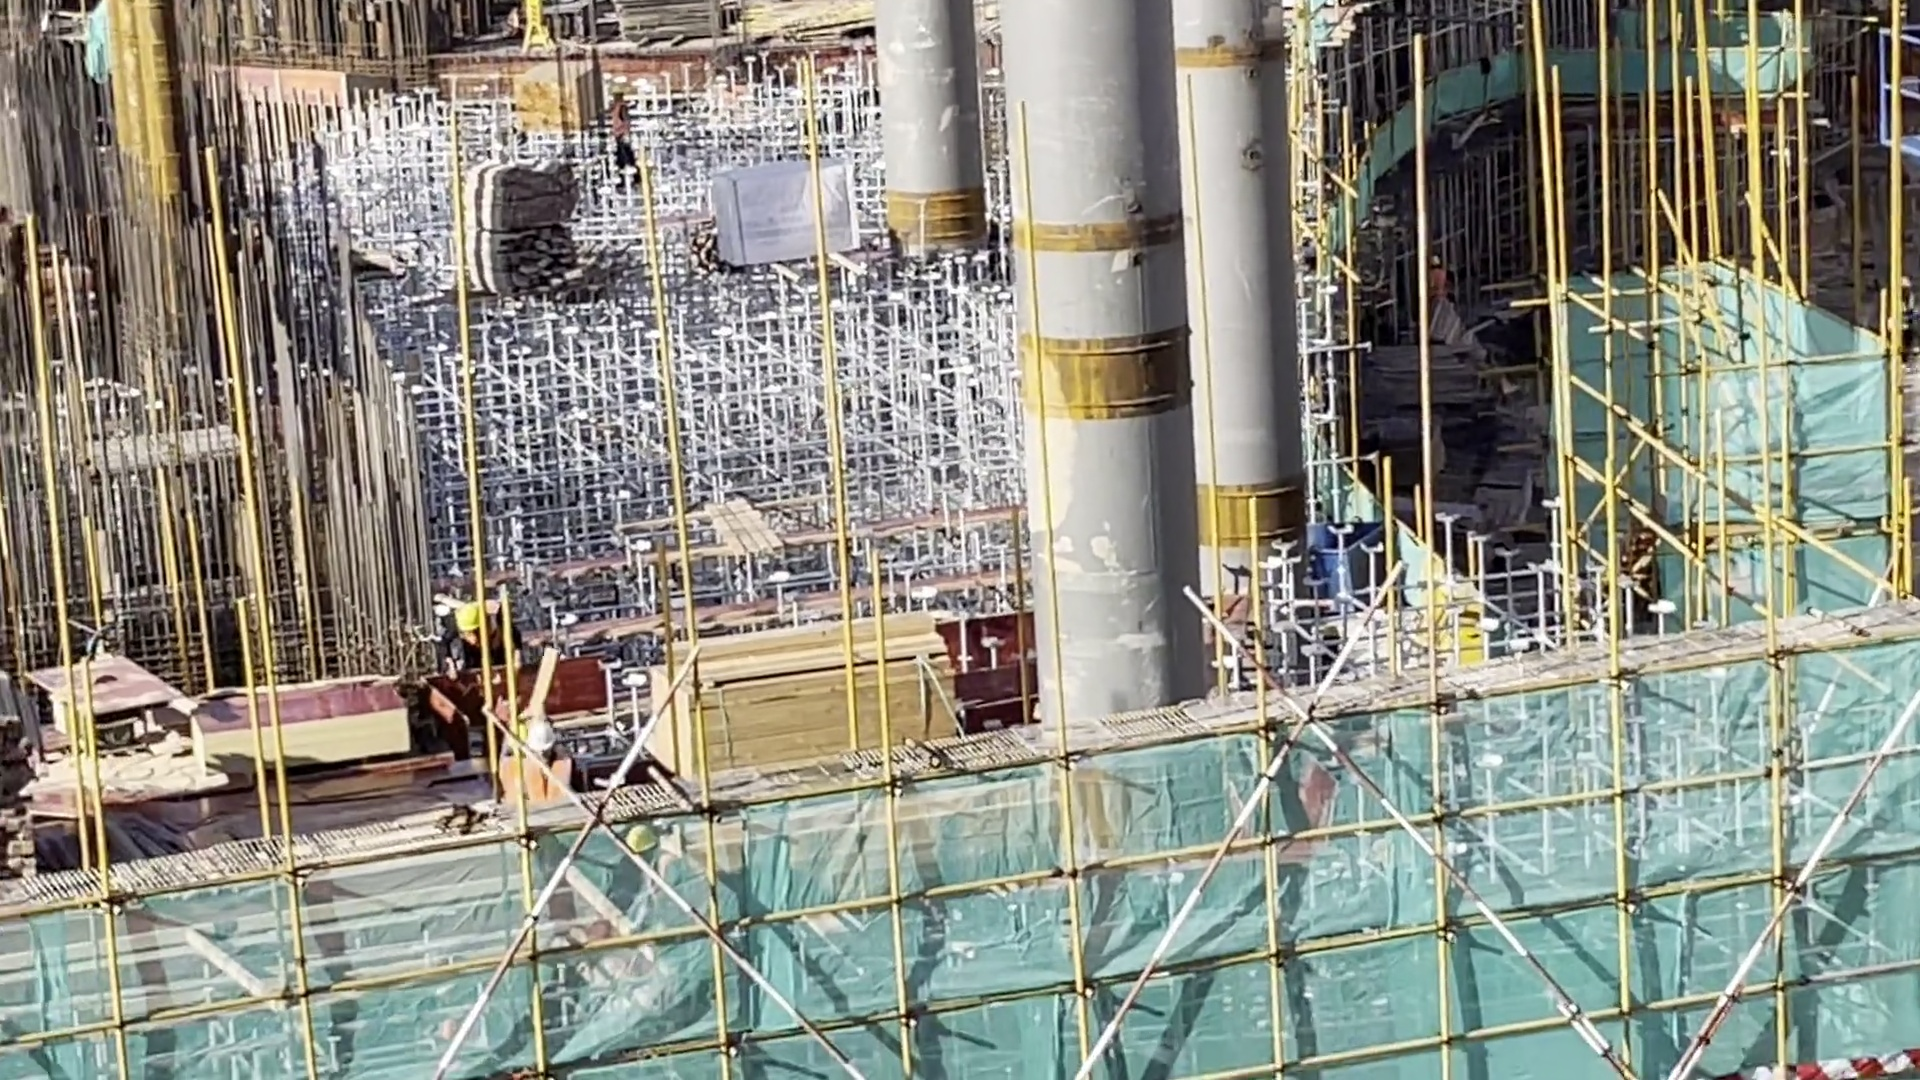helmet: (515, 716, 559, 761)
person: (489, 697, 585, 823)
vest: (519, 754, 574, 808)
